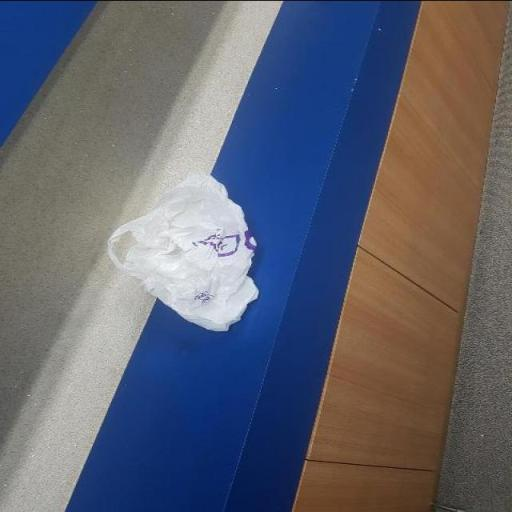plastic-bag: (103, 169, 260, 334)
